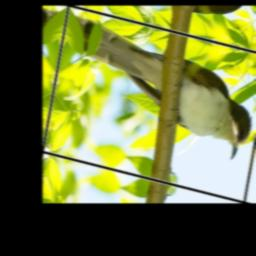Cuckoo: (54, 14, 256, 164)
